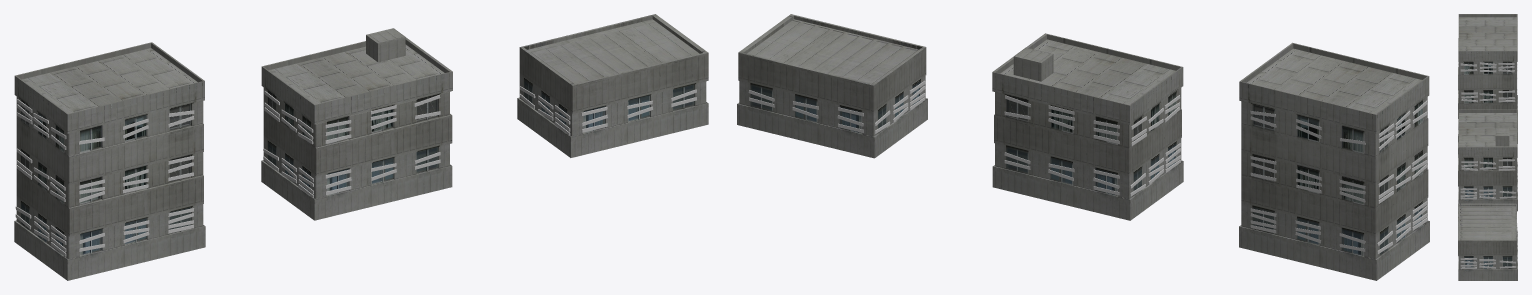
Rendered from buildingsFBX.fbx.
3 renders of one model, left to right at view 1: azimuth 30°, elevation 25°; view 2: azimuth 150°, elevation 25°; view 3: azimuth 270°, elevation 25°, orthographic. The views are drawn at different scales.
Visible parts, largest first — view 1: building1, building2, building3; view 2: building1, building2, building3; view 3: building1, building2, building3.
Part boxes in pixels (x1,y1,x2,y2): building1: (14,42,205,280); building2: (261,28,452,220); building3: (517,14,708,157); building1: (1239,42,1429,280); building2: (992,33,1183,220); building3: (737,14,927,158); building1: (1458,14,1517,143); building2: (1458,109,1517,211); building3: (1458,203,1517,280).
Size of the model in its own units: 4630 by 1147 by 670.
